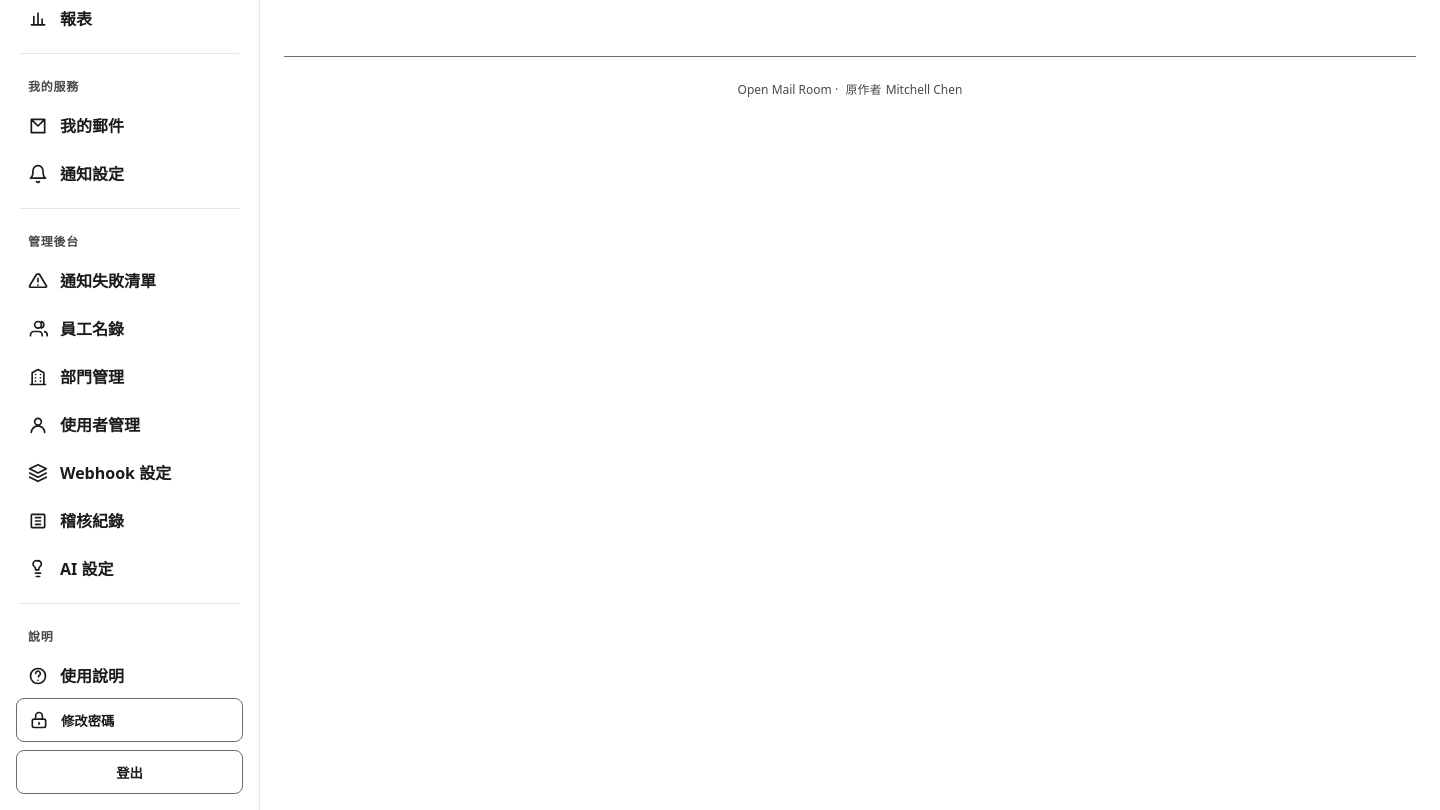
it: AppShell › shows a "修改密碼" button that opens the change-password dialog for role=admin
(page scrolled)
What coordinates should you click on to do the following:
click the button "修改密碼"
I would click on:
 (130, 720)
Its box is [16,698,243,742].
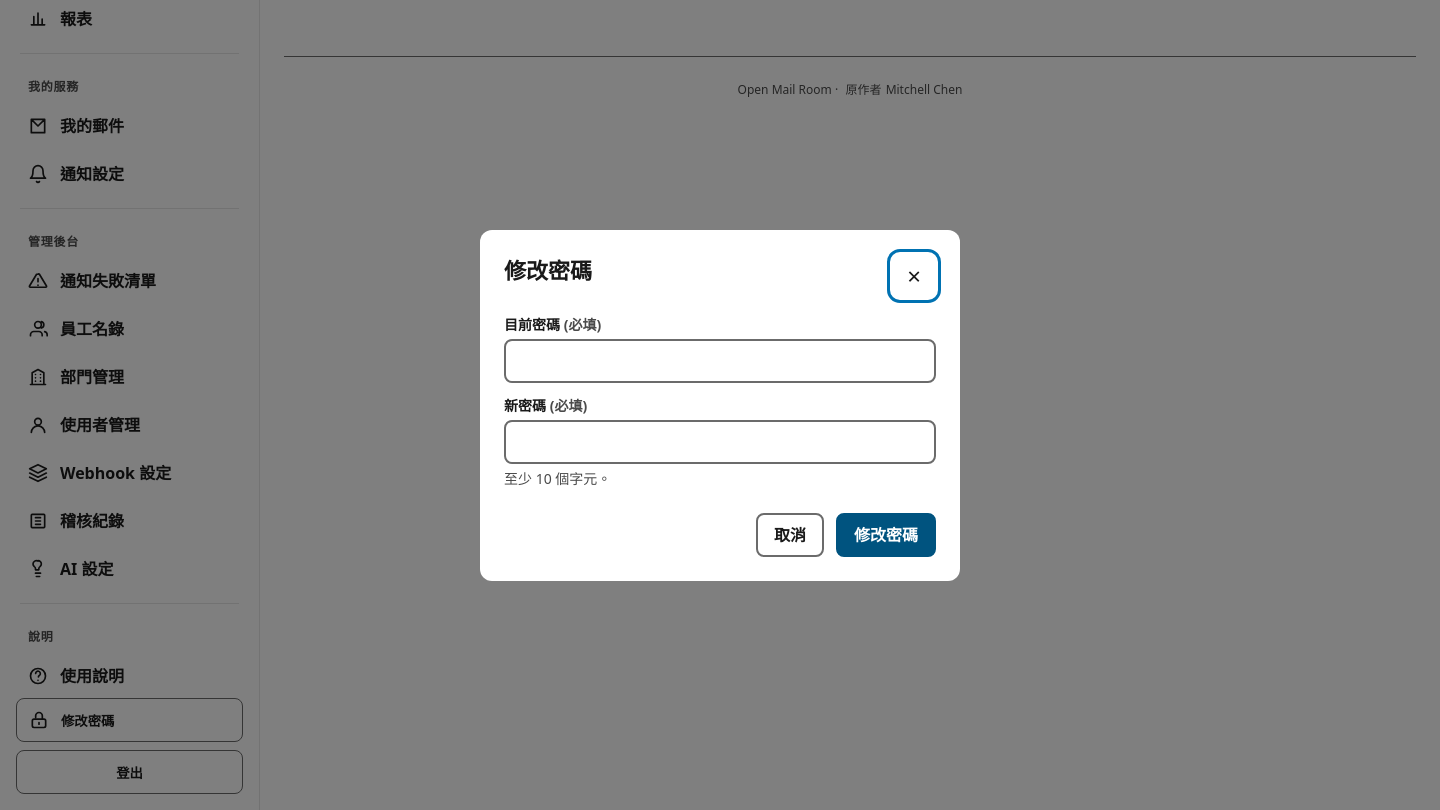
Expected: the text "修改密碼" is shown, [61,710,114,730]
Expected: the password field labelled "目前密碼 (必填)" is shown, [504,338,936,382]
